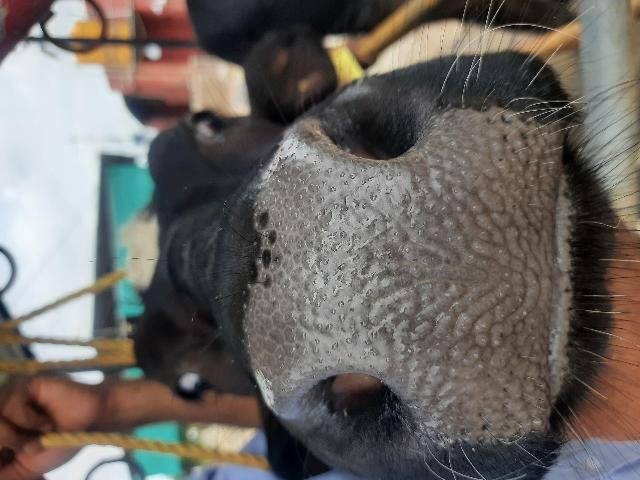Muzzle: (279, 145, 541, 379)
